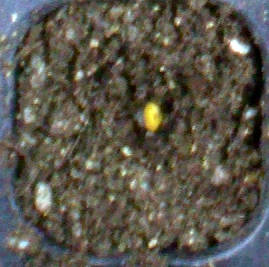pepper seed: (60, 36, 224, 167)
